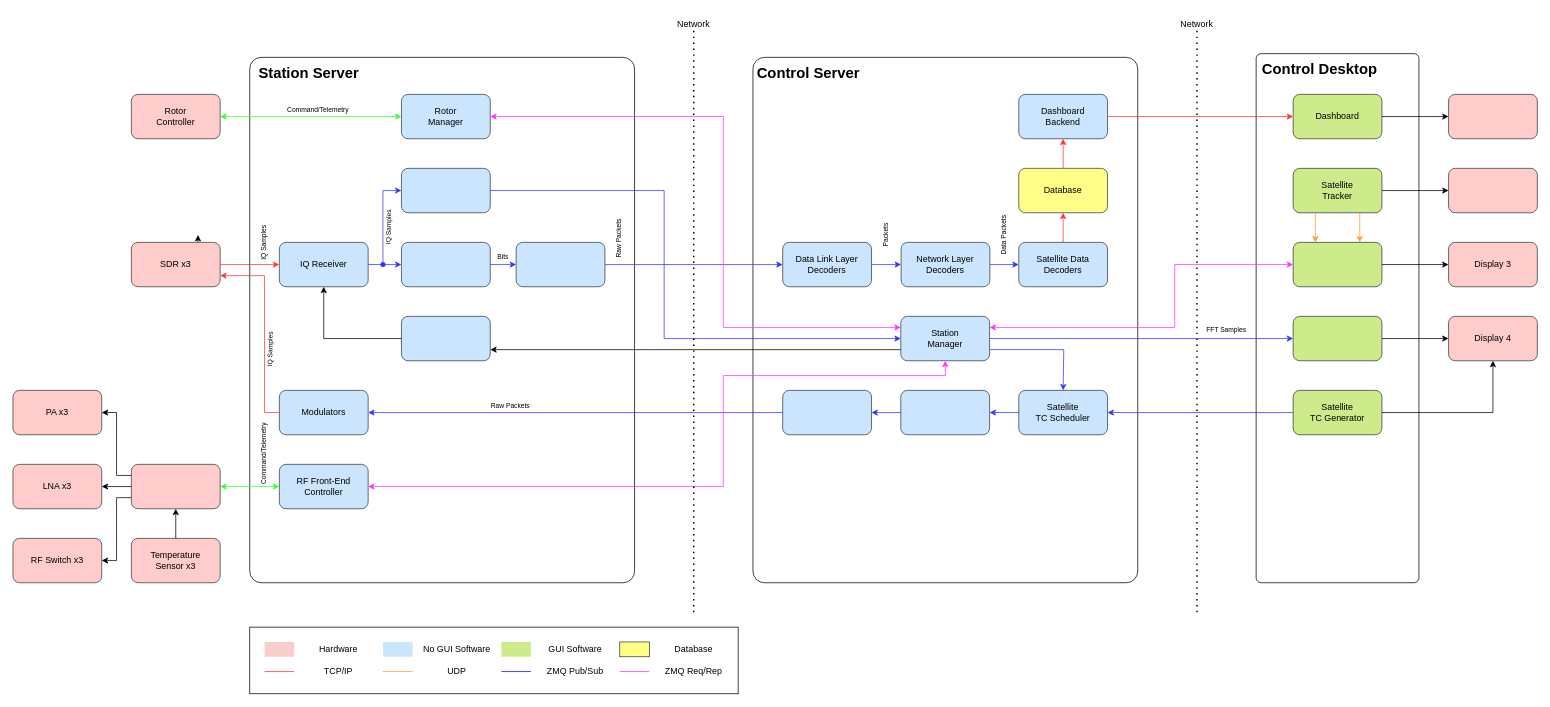
The diagram is 1550 pixels wide and 707 high, and some of its shapes have lost their labels. Here are the shapes that lost their labels. From the top down, the box of each, then its label:
(1448, 94, 1537, 139): Display 1
(401, 168, 490, 213): FFT x3
(1448, 168, 1537, 213): Display 2
(401, 242, 490, 287): Demodulators
(515, 242, 605, 287): Sync. Word Detectors
(1292, 242, 1382, 287): GRS Manager
(401, 316, 490, 361): Frequency Synth.
(1292, 316, 1382, 361): Spectrum Monitor
(782, 390, 871, 435): Data Link Layer Encoder
(900, 390, 990, 435): Network Layer Encoder
(131, 464, 220, 509): Control Board
